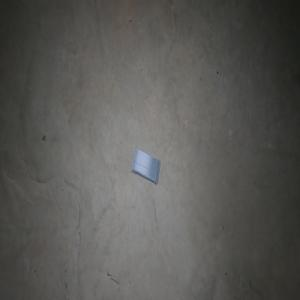PlasticPart: (131, 148, 160, 185)
